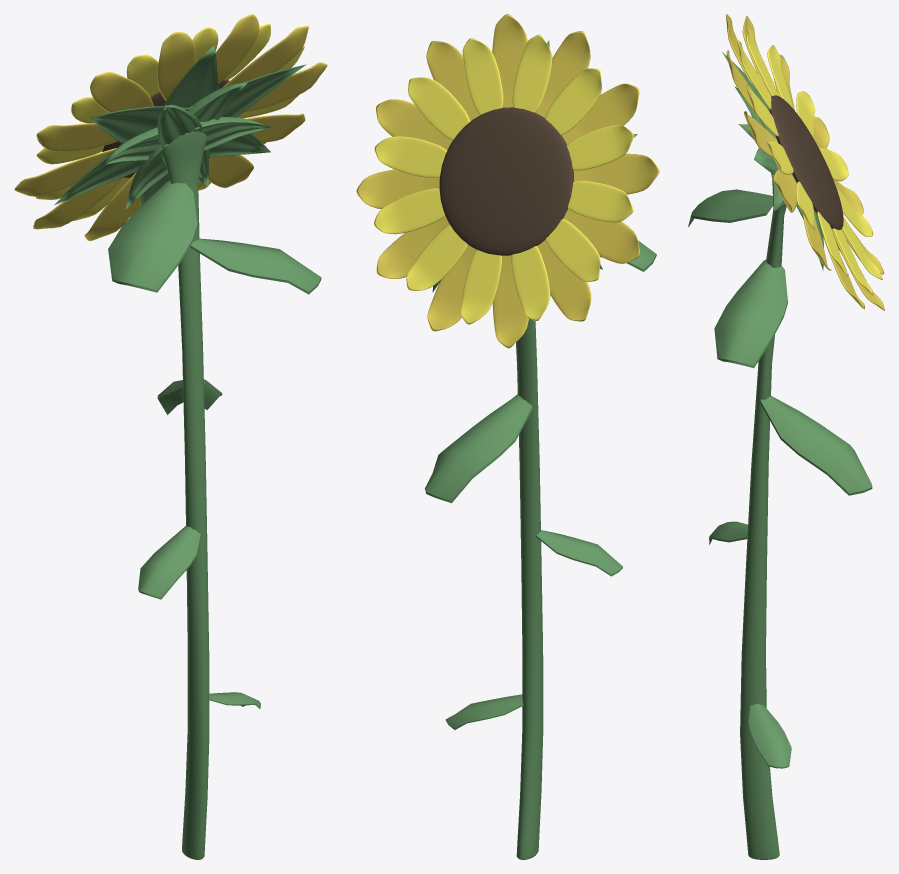
The model's file is sunflowerFull.fbx.
3 views of the same model, side by side, from view 1: azimuth 30°, elevation 25°; view 2: azimuth 150°, elevation 25°; view 3: azimuth 270°, elevation 25° (orthographic). The views are drawn at different scales.
Visible parts, largest first — view 1: pCylinder1, pCube14, pCube15, pCube17, pCube3, pCube23, pCube1, pCube12, pCone1, pCone3, pCube20, pCube19 (+18 smaller); view 2: pSphere1, pCylinder1, pCube16, pCube4, pCube22, pCube2, pCube5, pCube29, pCube6, pCube21, pCube7, pCube12 (+17 smaller); view 3: pCylinder1, pCube15, pCube16, pSphere1, pCube14, pCube13, pCube28, pCube17, pCube25, pCube21, pCube7, pCube8 (+12 smaller).
Boxes of the visible parts, x1,y1,x2,y2 form: pCylinder1: (161,131,209,859); pCube14: (108,181,197,292); pCube15: (190,238,321,294); pCube17: (138,526,200,599); pCube3: (157,32,195,100); pCube23: (90,72,153,112); pCube1: (36,123,117,151); pCube12: (14,148,116,196); pCone1: (163,45,218,107); pCone3: (90,106,188,143); pCube20: (222,26,308,87); pCube19: (215,14,259,83); pSphere1: (439,107,573,255); pCylinder1: (516,318,543,859); pCube16: (425,394,532,503); pCube4: (374,136,446,178); pCube22: (408,77,470,140); pCube2: (462,38,503,114); pCube5: (374,188,445,234); pCube29: (512,34,552,112); pCube6: (406,225,467,290); pCube21: (545,68,601,135); pCube7: (460,249,501,324); pCube12: (563,209,639,263); pCylinder1: (740,180,786,859); pCube15: (714,259,787,367); pCube16: (760,396,872,495); pSphere1: (769,95,843,229); pCube14: (688,189,773,226); pCube13: (748,704,791,768); pCube28: (773,169,797,212); pCube17: (709,521,747,544); pCube25: (767,45,793,108); pCube21: (746,25,778,95); pCube7: (842,217,882,280); pCube8: (836,188,873,236).
Bounding box in the file's own units: 3.43 × 9.47 × 2.05.
